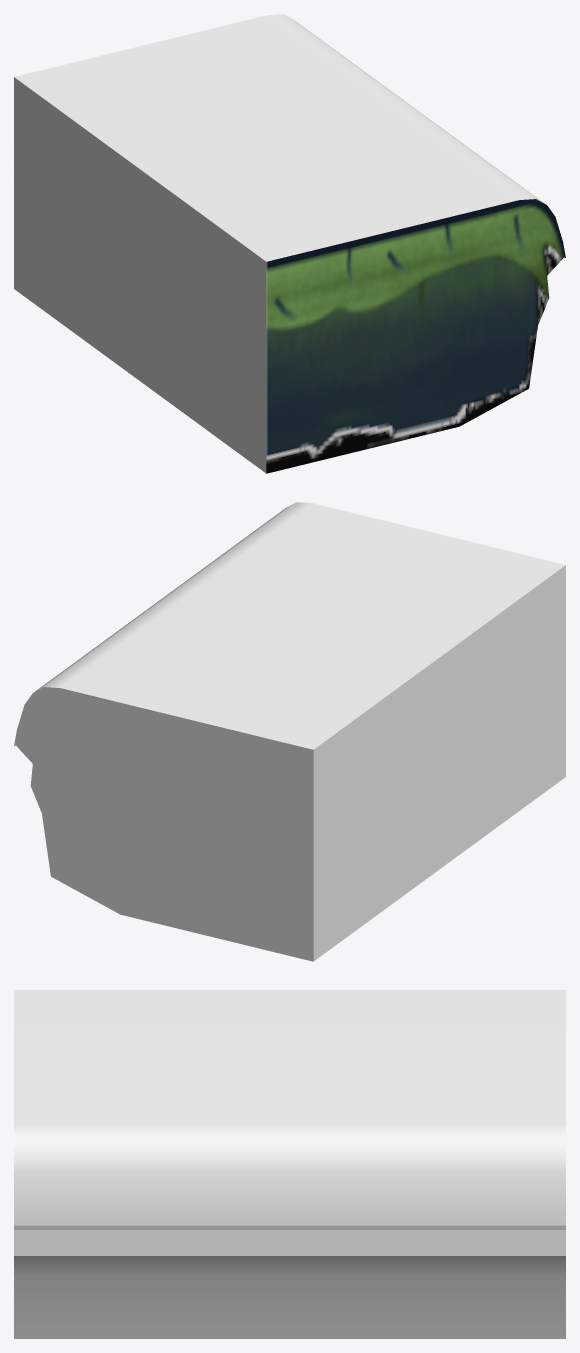
The model's file is Plataforma_TipRight_01.fbx.
3 views of the same model, one above another, from view 1: azimuth 30°, elevation 25°; view 2: azimuth 150°, elevation 25°; view 3: azimuth 270°, elevation 25° (orthographic). The views are drawn at different scales.
Parts seen in each view (by area): view 1: Plataforma_TipRight_01; view 2: Plataforma_TipRight_01; view 3: Plataforma_TipRight_01.
Part boxes in pixels (x1=…): Plataforma_TipRight_01: x1=14, y1=14, x2=565, y2=473; Plataforma_TipRight_01: x1=14, y1=502, x2=565, y2=961; Plataforma_TipRight_01: x1=14, y1=990, x2=565, y2=1338.
Size of the model in its own units: 3 by 2.03 by 4.38.
